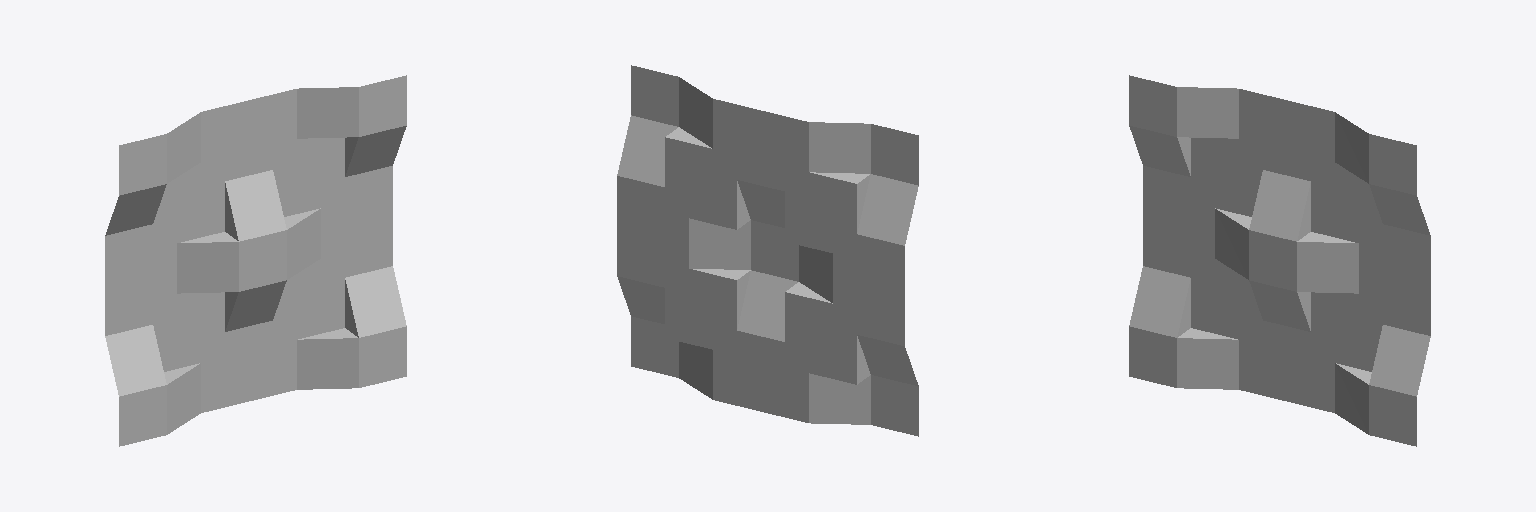
The model's file is tag1_5.obj.
3 renders of one model, left to right at view 1: azimuth 30°, elevation 25°; view 2: azimuth 150°, elevation 25°; view 3: azimuth 330°, elevation 25°, orthographic.
Visible parts, largest first — view 1: Grid; view 2: Grid; view 3: Grid.
Part boxes in pixels (x1,y1,x2,y2): Grid: (105,75,406,446); Grid: (617,65,918,436); Grid: (1129,75,1430,446).
Bounding box in the file's own units: 30 × 30 × 2.5.